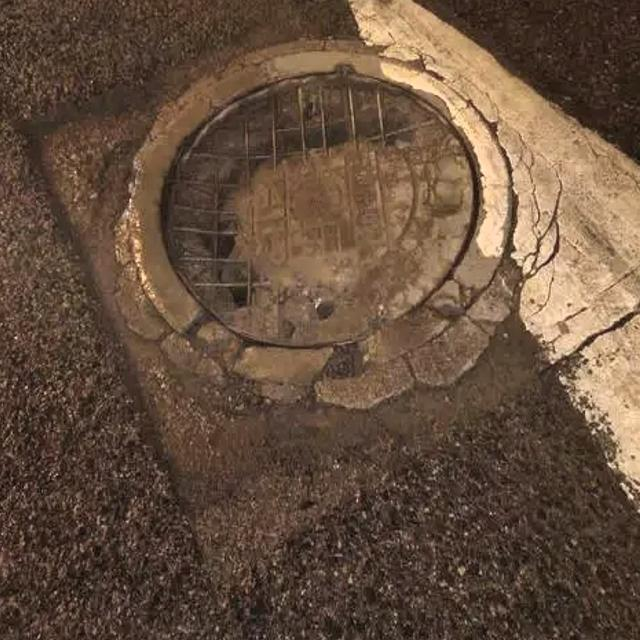circle: (45, 3, 619, 505)
